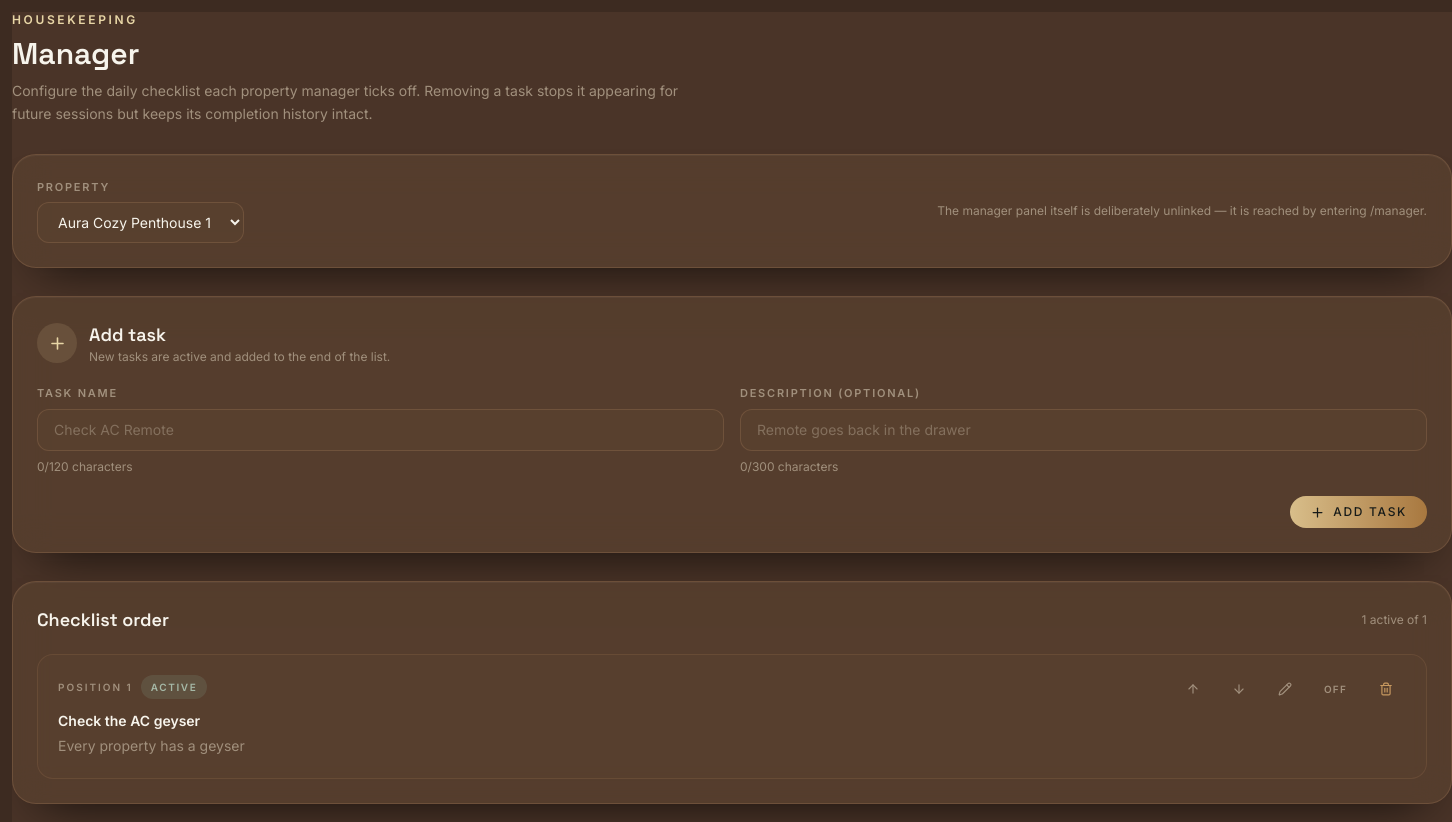
Test case: ManagerTab › turns a task off so managers stop seeing it, keeping it in the list
The width and height of the screenshot is (1452, 822).
Expected: the text "Check the AC geyser" is shown, [58,712,200,729]
Click the button with aria-label "Disable Check the AC geyser" at (1336, 689), box [1311,676,1360,703]
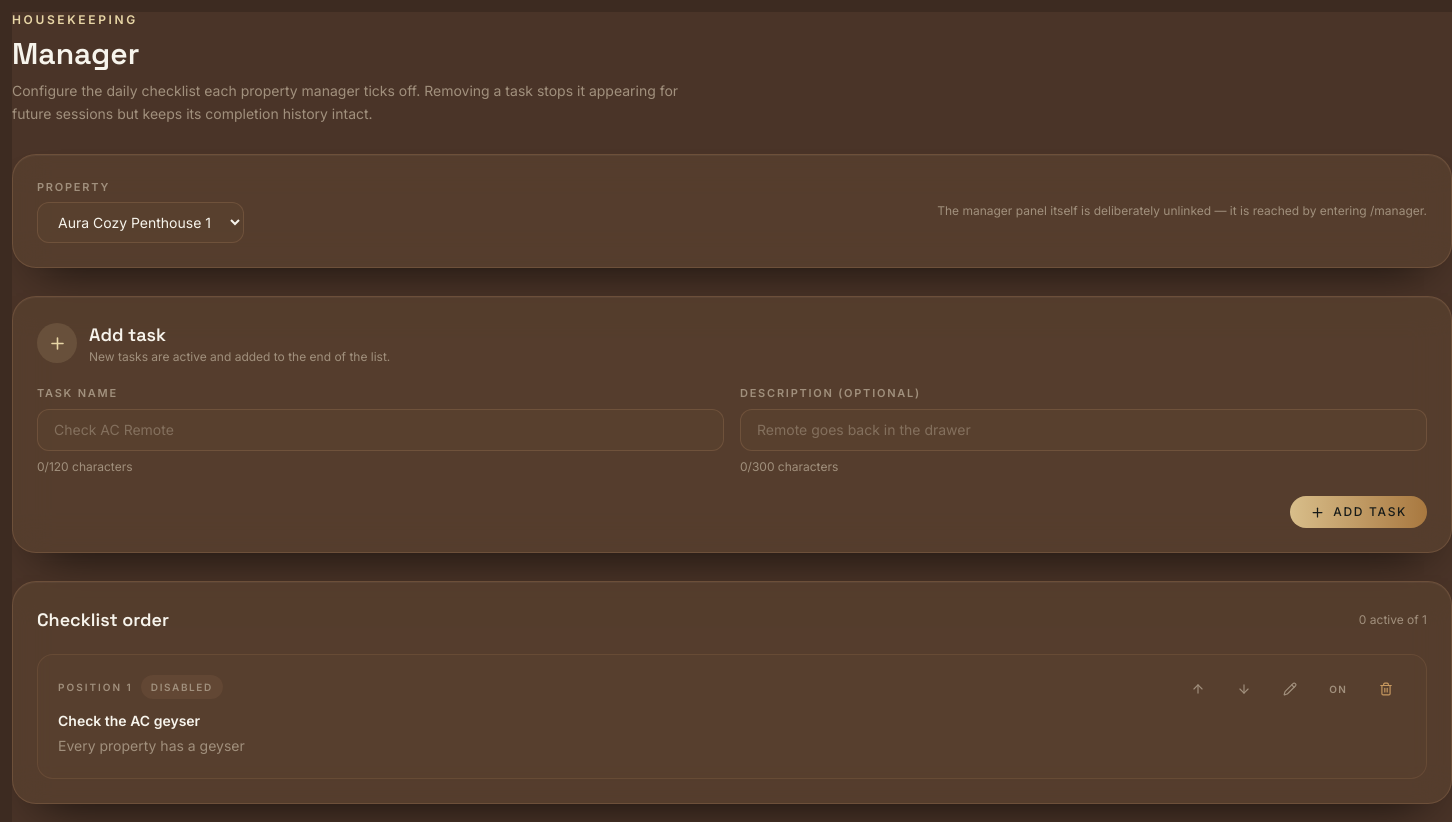
Now the text "Disabled" is shown, box [141,675,223,699]
Now the button with aria-label "Enable Check the AC geyser" is shown, box [1316,676,1360,703]
